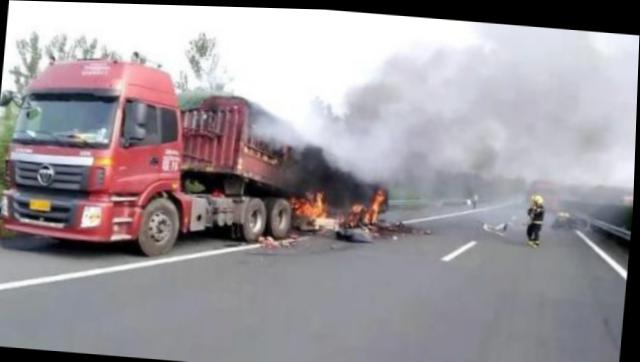fire: (274, 164, 390, 233)
